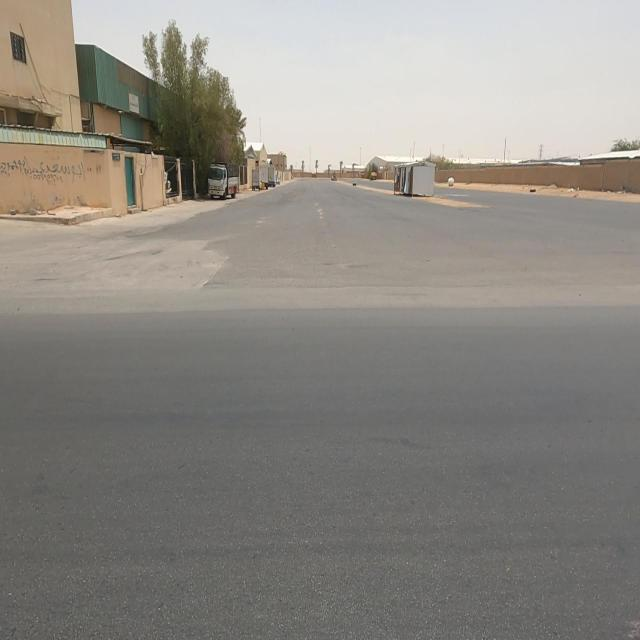Graffiti: (2, 156, 87, 187)
